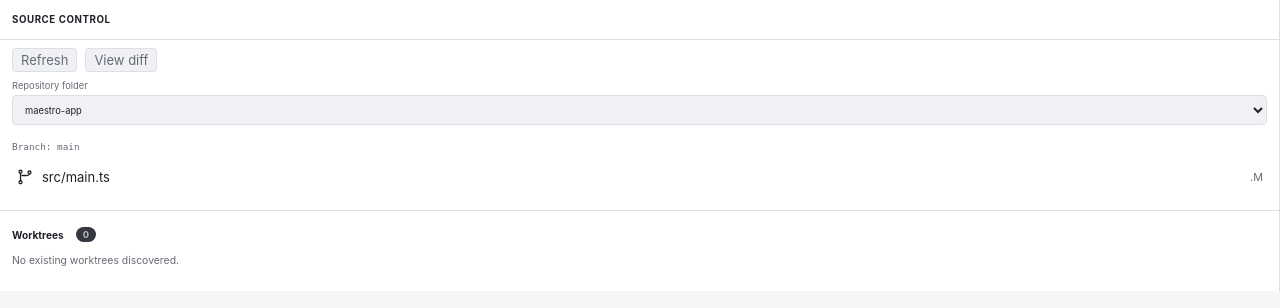
Test: PrimarySidebar multi-root project resources › refreshes Git from the selected repository root
The width and height of the screenshot is (1280, 308).
Check: the text "Branch: main" is shown, box [12, 141, 80, 152]
Step 1. Select "maestro-docs" in the dropdown labelled "Repository folder" → (640, 110), box [12, 95, 1267, 125]
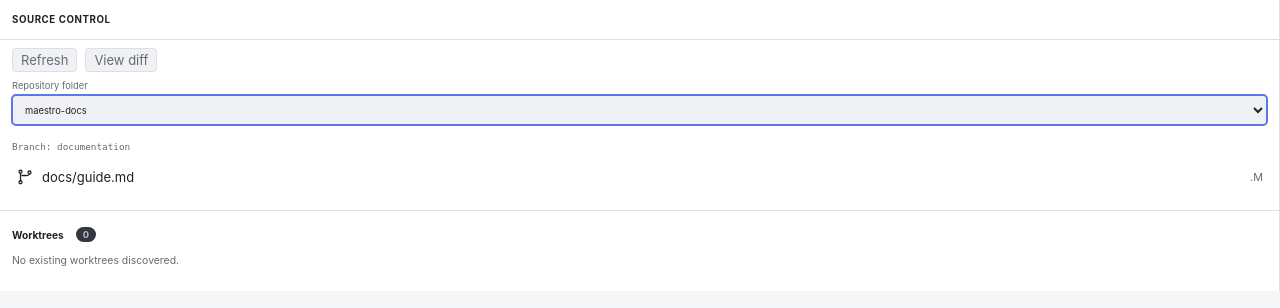
Check: the text "Branch: documentation" is shown, box [12, 141, 130, 152]
Check: the button "docs/guide.md .M" is shown, box [8, 164, 1271, 190]
